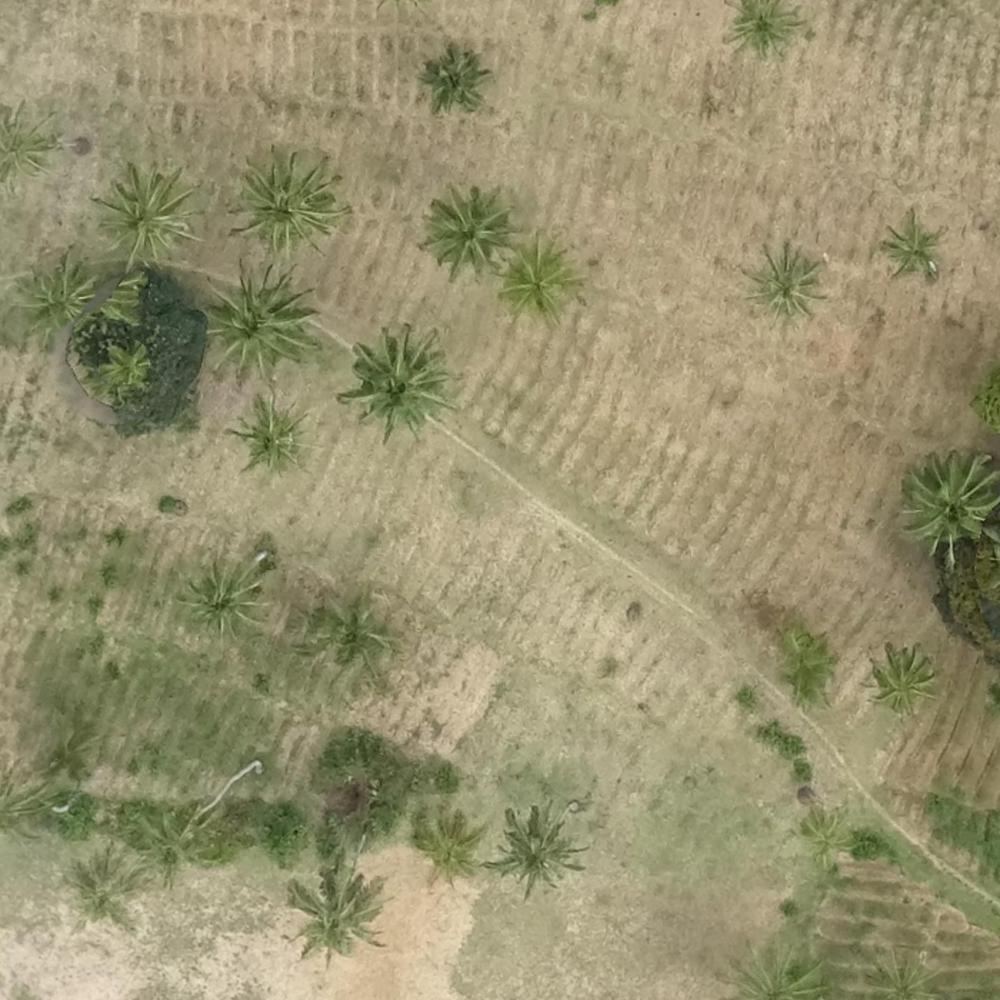Palm: (207, 271, 312, 377), (231, 148, 341, 244), (95, 166, 198, 262), (346, 330, 446, 424), (902, 450, 994, 548), (283, 862, 379, 955), (420, 188, 516, 272), (178, 558, 264, 638), (500, 808, 583, 888), (751, 243, 830, 323), (502, 244, 579, 315), (411, 807, 483, 882), (19, 258, 90, 333), (232, 398, 308, 467), (417, 46, 490, 113), (865, 645, 938, 710), (881, 212, 943, 277), (730, 4, 794, 62)
